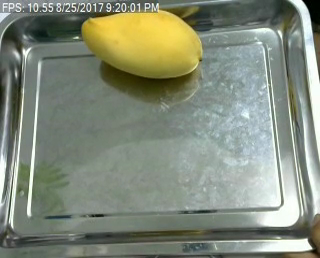Mango: (79, 3, 205, 80)
